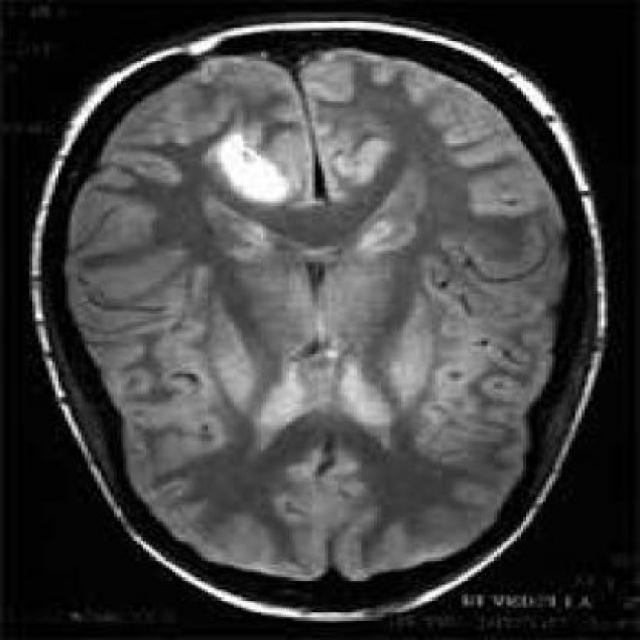Tumor: (220, 151, 294, 217)
